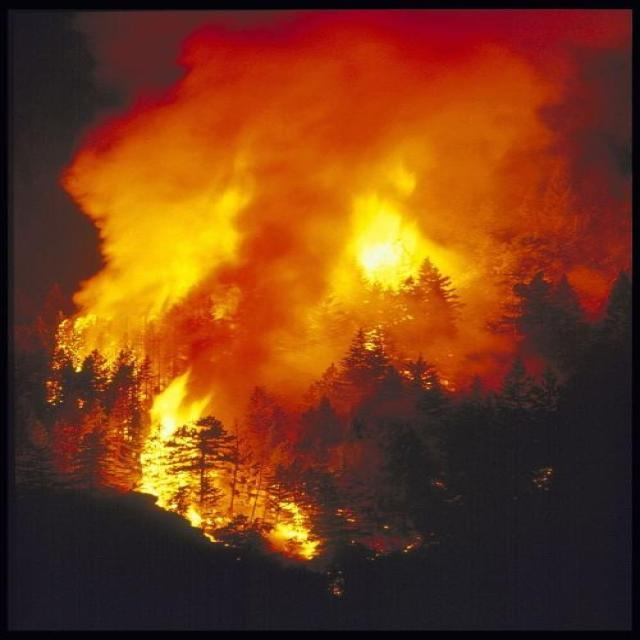Fire: (44, 192, 468, 560)
Smoke: (56, 10, 630, 404)
